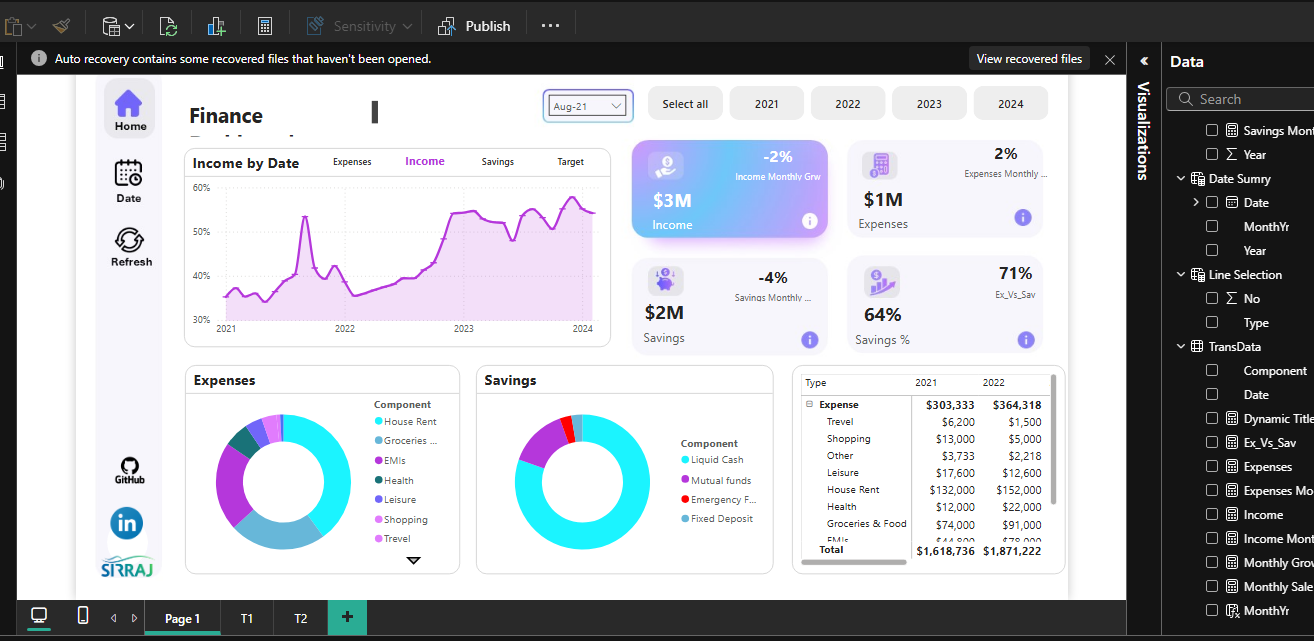

The dashboard page shown, as its layout file describes it:
{"tool":"powerbi","page":{"name":"Page 1","canvas":[1280,720],"ordinal":0},"visuals":[{"type":"card","fields":{"Values":["TransData.Income"]},"box":[720,180.7,99.8,69.4],"z":0},{"type":"card","fields":{"Values":["TransData.Savings"]},"box":[708.4,322.4,101.2,75.2],"z":1000},{"type":"card","fields":{"Values":["TransData.Expenses"]},"box":[997.6,176.4,88.2,73.7],"z":2000},{"type":"card","fields":{"Values":["TransData.Savings %"]},"box":[997.6,322.4,86.7,81],"z":3000},{"type":"advancedSlicerVisual","fields":{"Values":["Calendar.Year"]},"box":[733,52,529.2,54.9],"z":4000},{"type":"donutChart","title":"Savings","fields":{"Y":["TransData.Savings"],"Category":["TransData.Component"]},"box":[515.8,416.8,384.3,270.5],"z":5000},{"type":"donutChart","title":"Expenses ","fields":{"Category":["TransData.Component"],"Y":["TransData.Expenses"]},"box":[140.4,416.8,354.7,270.5],"z":6000},{"type":"pivotTable","fields":{"Rows":["TransData.Type","TransData.Component"],"Values":["TransData.Total Value"],"Columns":["Calendar.Year"]},"box":[923.8,416.8,353.3,270.5],"z":7000},{"type":"areaChart","fields":{"Category":["TransData.Date"],"Y":["Calendar.Line Chart Measures"]},"box":[138.8,137.3,550.8,257.3],"z":8000},{"type":"advancedSlicerVisual","fields":{"Values":["Line Selection.Type"]},"box":[308,134.5,381.7,41.9],"z":9000},{"type":"textbox","box":[140.2,70.8,254.5,56.4],"z":10000},{"type":"slicer","fields":{"Values":["Date Sumry.MonthYr"]},"box":[600,57.8,120,43.4],"z":11000},{"type":"card","fields":{"Values":["TransData.Income Monthly Grw"]},"box":[844.3,127.2,124.3,56.4],"z":12000},{"type":"card","fields":{"Values":["TransData.Expenses Monthly Grw"]},"box":[1137.8,120,124.3,63.6],"z":13000},{"type":"card","fields":{"Values":["Calendar.Savings Monthly Grw"]},"box":[841.4,283.4,117.1,56.4],"z":14000},{"type":"card","fields":{"Values":["TransData.Ex_Vs_Sav"]},"box":[1146.5,274.7,130.1,65.1],"z":15000},{"type":"actionButton","box":[29.3,137.5,76.6,83.4],"z":16000},{"type":"shape","box":[40.5,615.9,53.5,60.7],"z":17500},{"type":"actionButton","box":[29.3,234.4,78.9,60.8],"z":18000},{"type":"image","box":[0,654.9,133,41.9],"z":20000},{"type":"image","box":[37.6,594.2,56.4,52],"z":21000},{"type":"image","box":[33.3,510.4,72.3,83.9],"z":22000}]}

Visuals, with their boxes on the page's 1280x720 design canvas (x1, y1, x2, y2). These are canvas units, not pixel positions in the 1314x641 screenshot, which may show the page scaled, cropped or inside an application window:
card - TransData.Income: crop(720, 181, 820, 250)
card - TransData.Savings: crop(708, 322, 810, 398)
card - TransData.Expenses: crop(998, 176, 1086, 250)
card - TransData.Savings %: crop(998, 322, 1084, 403)
advancedSlicerVisual - Calendar.Year: crop(733, 52, 1262, 107)
"Savings" donutChart: crop(516, 417, 900, 687)
"Expenses " donutChart: crop(140, 417, 495, 687)
pivotTable - TransData.Type x TransData.Component: crop(924, 417, 1277, 687)
areaChart - TransData.Date x Calendar.Line Chart Measures: crop(139, 137, 690, 395)
advancedSlicerVisual - Line Selection.Type: crop(308, 134, 690, 176)
textbox: crop(140, 71, 395, 127)
slicer - Date Sumry.MonthYr: crop(600, 58, 720, 101)
card - TransData.Income Monthly Grw: crop(844, 127, 969, 184)
card - TransData.Expenses Monthly Grw: crop(1138, 120, 1262, 184)
card - Calendar.Savings Monthly Grw: crop(841, 283, 958, 340)
card - TransData.Ex_Vs_Sav: crop(1146, 275, 1277, 340)
actionButton: crop(29, 138, 106, 221)
shape: crop(40, 616, 94, 677)
actionButton: crop(29, 234, 108, 295)
image: crop(0, 655, 133, 697)
image: crop(38, 594, 94, 646)
image: crop(33, 510, 106, 594)
